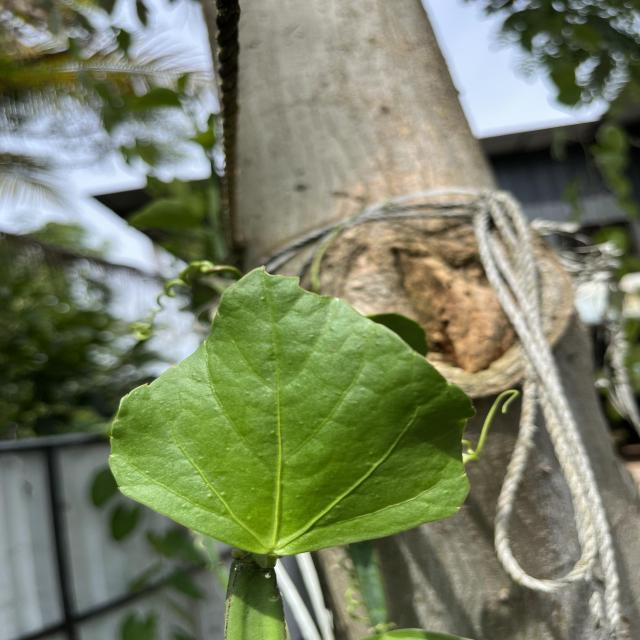Cissus quadrangularis: (103, 260, 485, 562)
